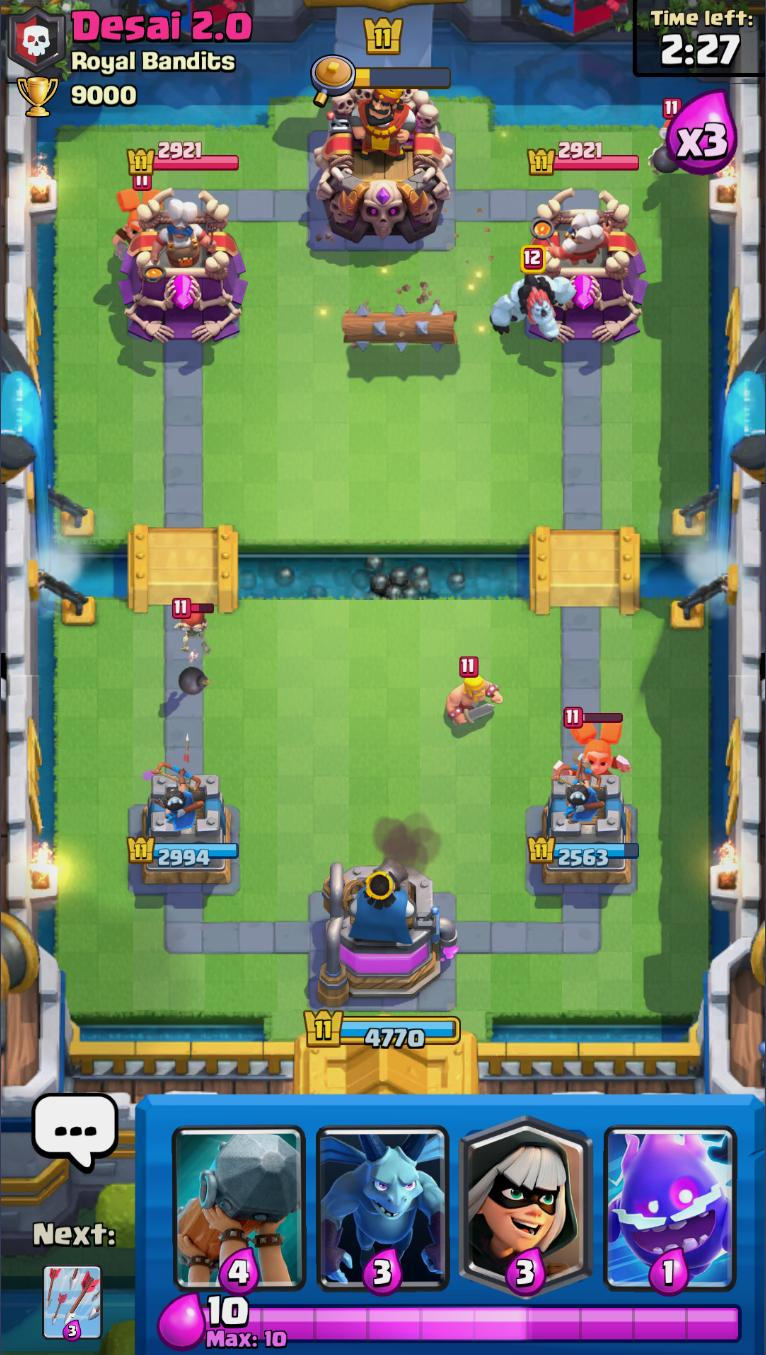ArrowNext: (42, 1263, 104, 1343)
BanditDeck: (450, 1097, 599, 1295)
Barbarian: (438, 658, 506, 728)
BattleRamDeck: (173, 1098, 310, 1290)
Berserker: (561, 709, 627, 783), (109, 175, 161, 254)
Bomber: (173, 599, 215, 687), (650, 96, 681, 178)
Chef: (149, 199, 217, 273), (553, 197, 617, 274)
ElectroSpiritDeck: (599, 1097, 744, 1294)
Elixir: (202, 1296, 742, 1349)
EnemyTower: (118, 187, 248, 346), (520, 188, 648, 345)
IceGolem: (491, 247, 575, 340)
KingTower: (309, 78, 456, 245)
Log: (336, 301, 461, 354)
MinionsDeck: (312, 1097, 453, 1296)
MyKingHP: (305, 1005, 461, 1051)
MyKingTower: (316, 858, 458, 1009)
MyPrincessTower: (128, 770, 241, 894), (528, 775, 640, 894)
MyPrincessTowerHP: (126, 835, 240, 869), (527, 835, 641, 869)
TowerPrincessHP: (526, 139, 641, 178), (125, 140, 240, 176)
